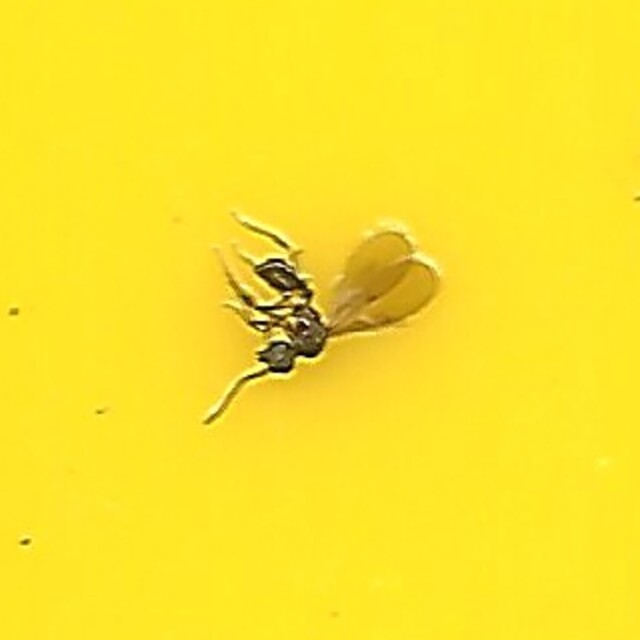Hymenoptera: (200, 215, 440, 425)
